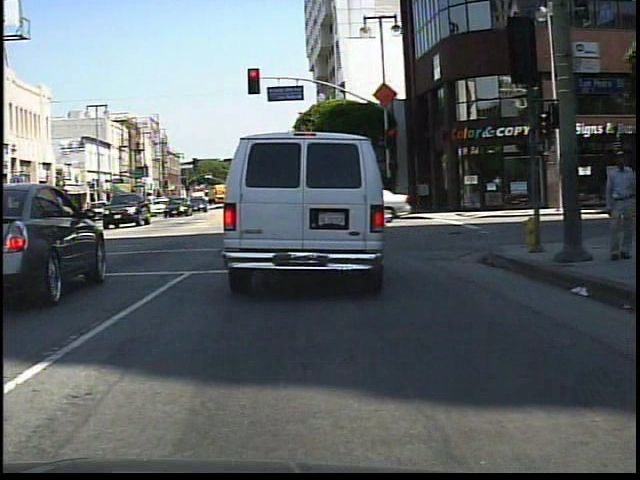person: (600, 146, 635, 265)
